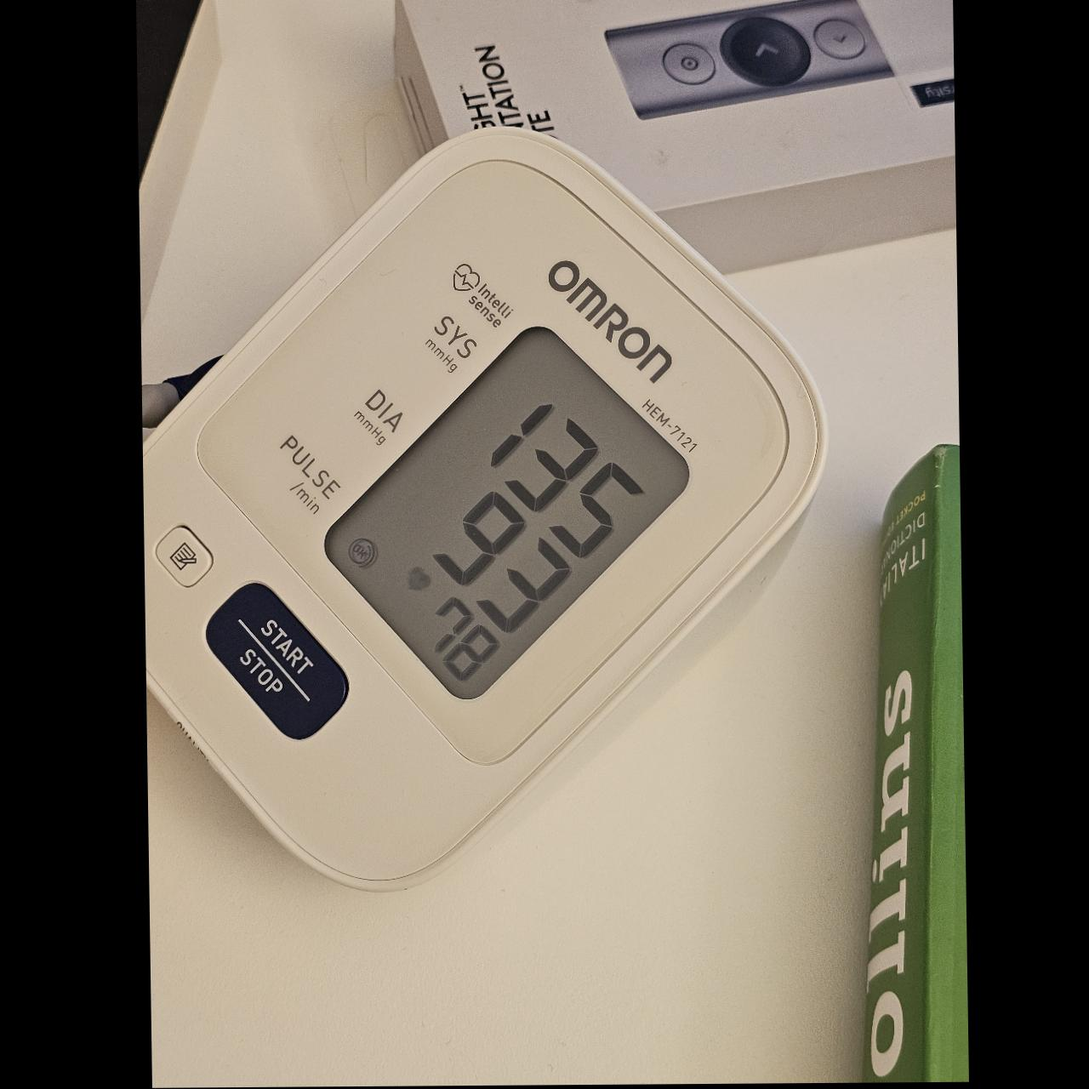lcd display: (320, 323, 696, 701)
